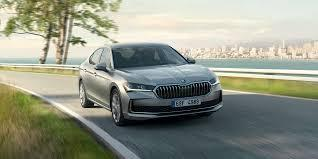skoda: (181, 78, 186, 84)
